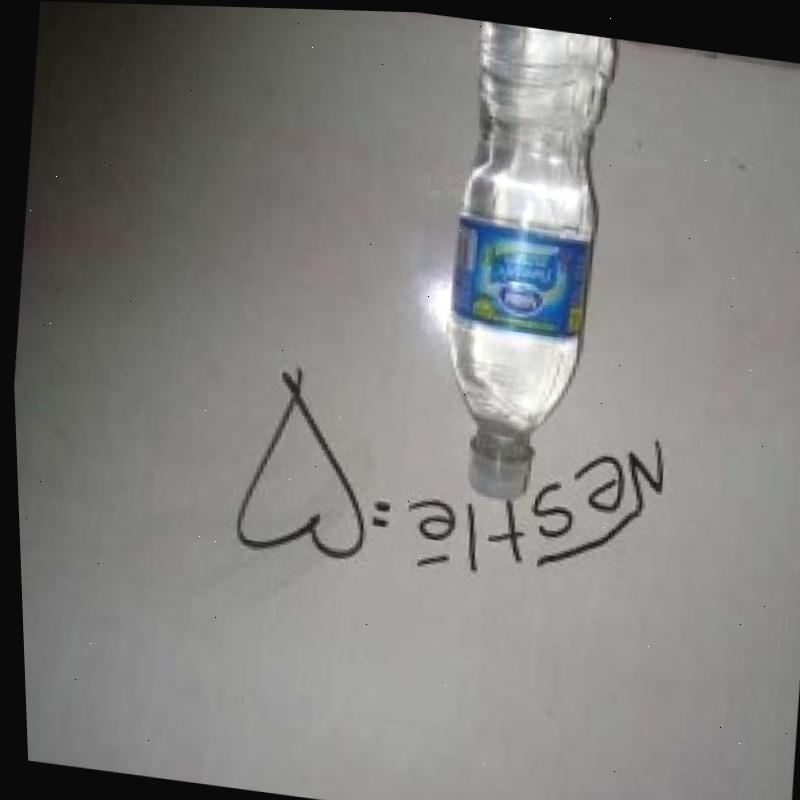botella: (421, 15, 630, 511)
